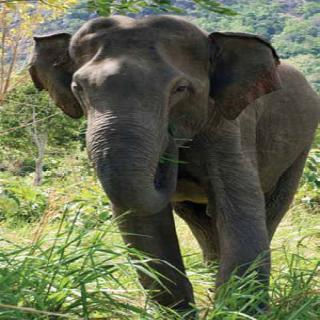Elephant: (21, 10, 319, 320)
